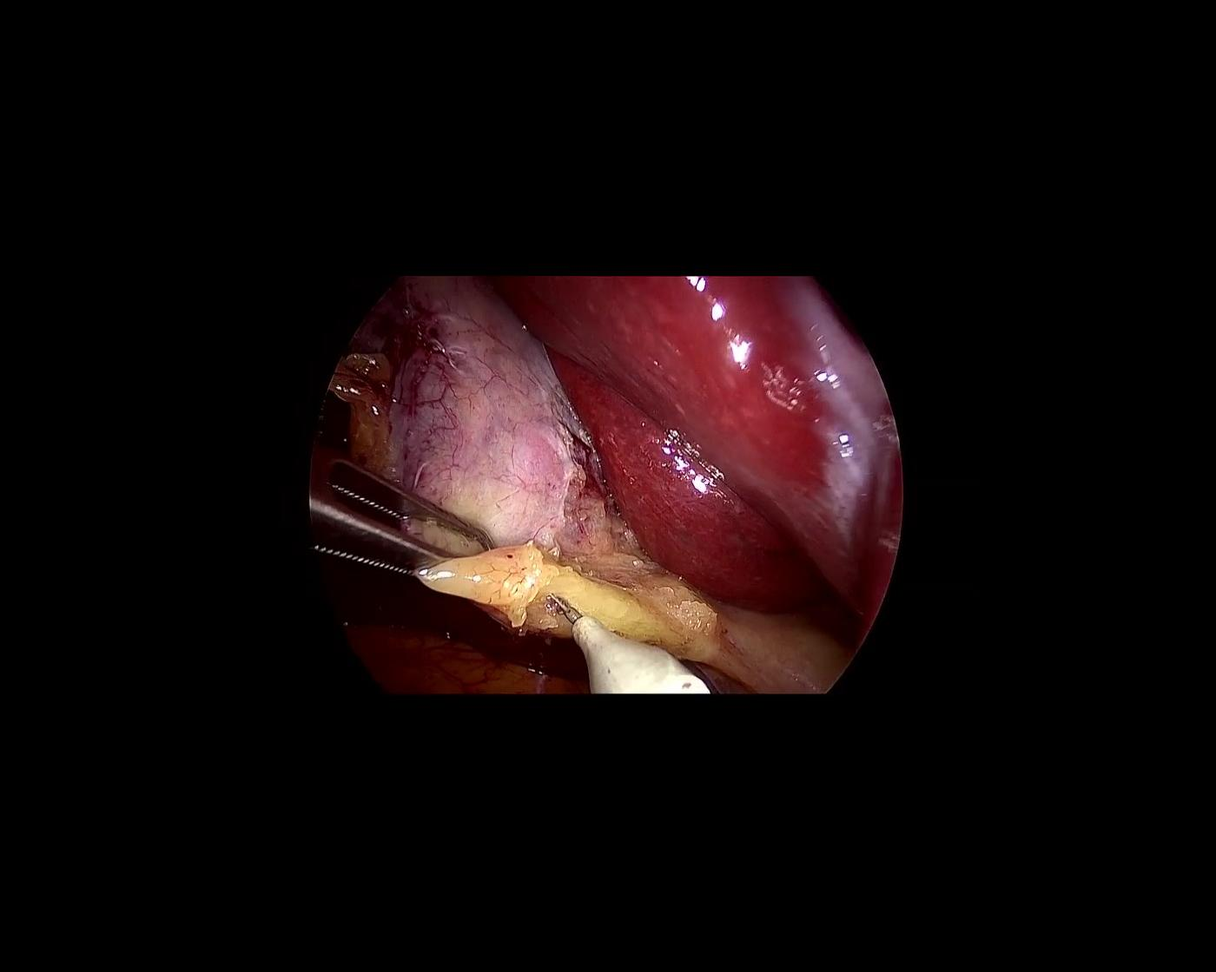Cautery: (516, 589, 717, 742)
Forceps: (267, 437, 506, 629)
Gallbladder: (342, 237, 633, 659)
Liver: (489, 277, 898, 632)
